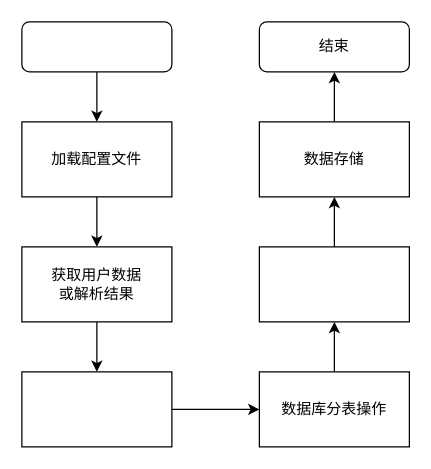
This 431x469 diagram has some shape labels left out. The shapes that lost their labels are listed below. From the top down, each one's centre as x and y in pixels, then its label:
(x=96, y=46): 开始
(x=333, y=284): 数据库索引加速
(x=96, y=409): 数据完整性校验
